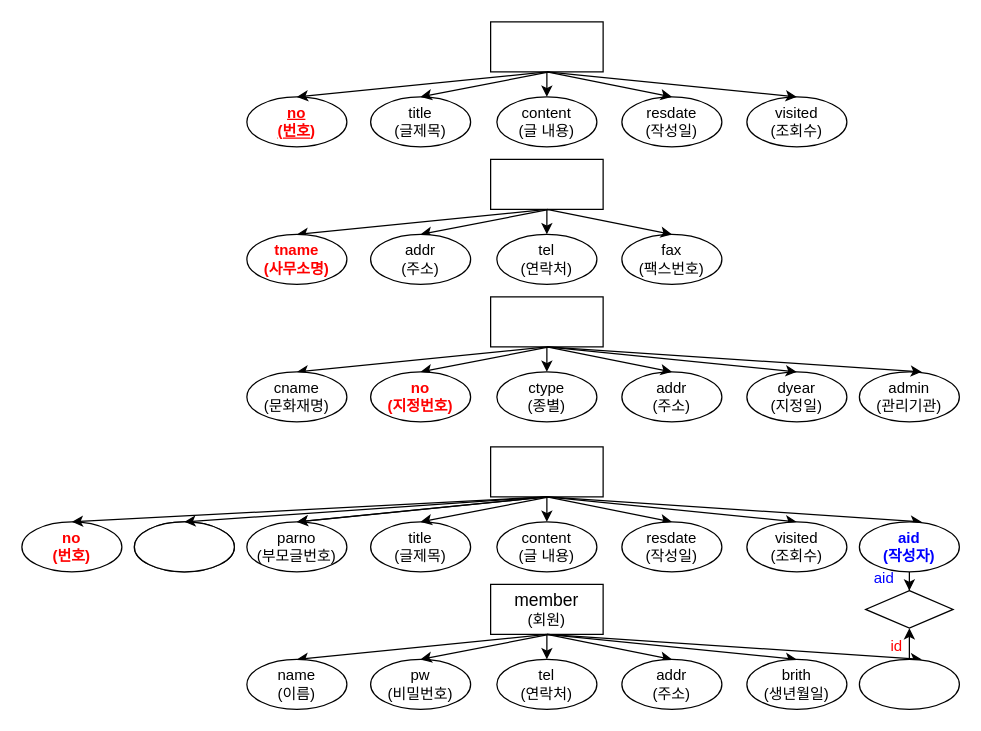
Some shapes in this 981 by 731 pixel diagram are drawn without their labels. The centre of each missing label's shape, as x and y in pixels:
culturalheritage (문화재): the point at 546,321
id (아이디): the point at 908,683
notice (공지사항): the point at 546,46
office (사무소): the point at 546,183
plevel (글 종류): the point at 183,546
qna (자유게시판): the point at 546,471
글등록: the point at 908,608
